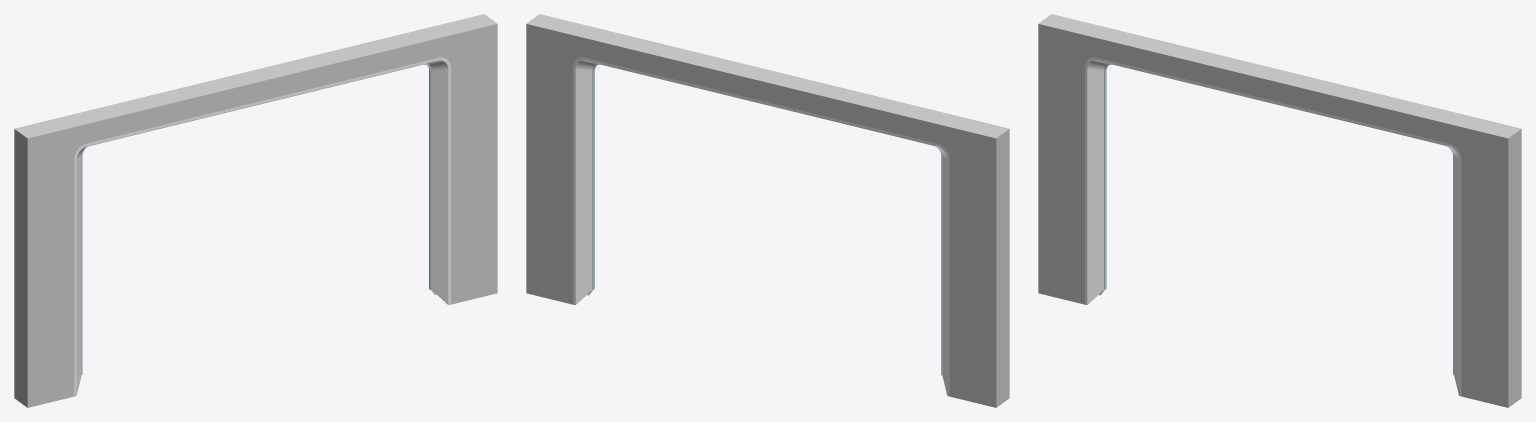
The model's file is StandApartmentArch_mesh.fbx.
The picture shows the model from 3 angles, left to right: view 1: azimuth 30°, elevation 25°; view 2: azimuth 150°, elevation 25°; view 3: azimuth 330°, elevation 25°; orthographic projection.
Visible parts, largest first — view 1: StandApartmentArch_mesh; view 2: StandApartmentArch_mesh; view 3: StandApartmentArch_mesh.
Boxes of the visible parts, x1,y1,x2,y2 form: StandApartmentArch_mesh: [14, 14, 497, 407]; StandApartmentArch_mesh: [526, 14, 1009, 407]; StandApartmentArch_mesh: [1038, 14, 1521, 407].
Size of the model in its own units: 282 by 155 by 13.93.
